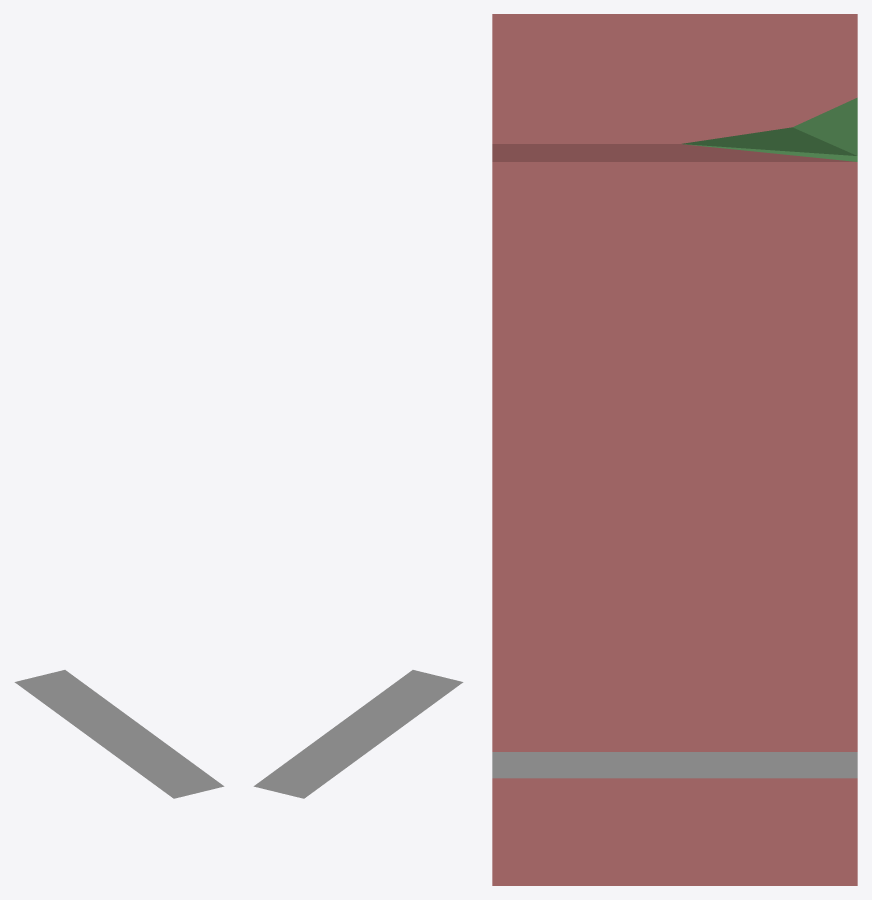
The model's file is SSQ_BRoom01_Wall02.gltf.
The picture shows the model from 3 angles, left to right: view 1: azimuth 30°, elevation 25°; view 2: azimuth 150°, elevation 25°; view 3: azimuth 270°, elevation 25°; orthographic projection. The views are drawn at different scales.
Parts seen in each view (by area): view 1: SSQ_BRoom01_Wall02; view 2: SSQ_BRoom01_Wall02; view 3: SSQ_BRoom01_Wall02.
Boxes of the visible parts, bbox=[...] form: SSQ_BRoom01_Wall02: bbox=[14, 670, 224, 798]; SSQ_BRoom01_Wall02: bbox=[253, 670, 463, 798]; SSQ_BRoom01_Wall02: bbox=[492, 14, 857, 885].
Size of the model in its own units: 0.2721 by 3.88 by 1.48.
